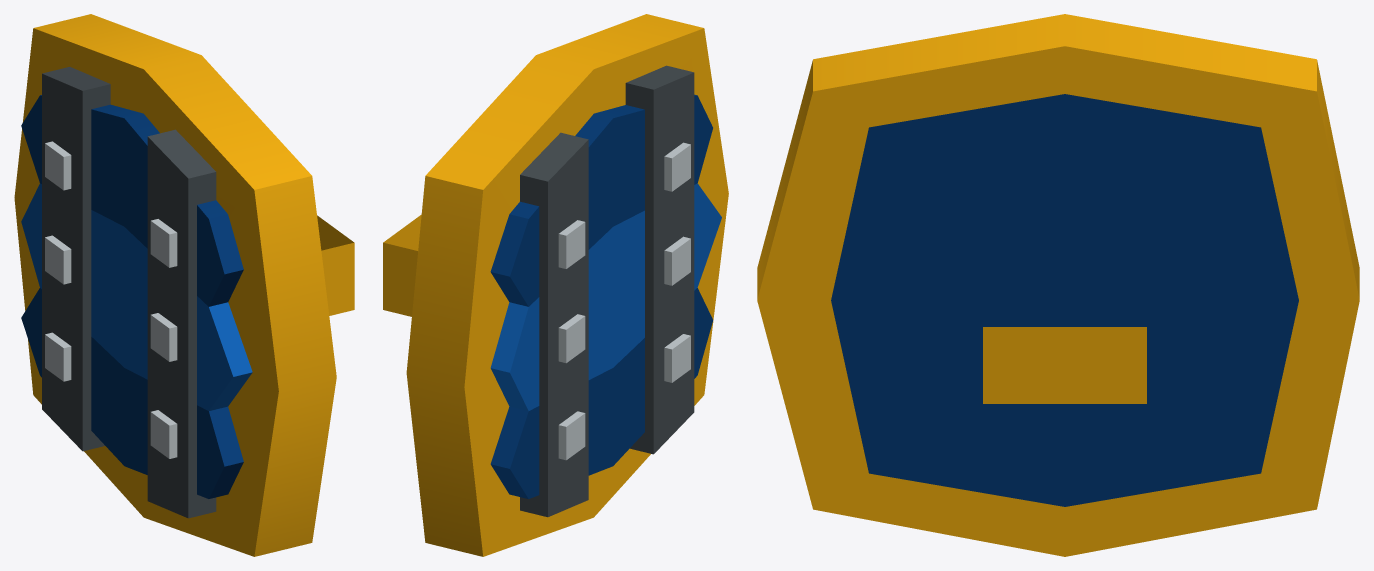
Rendered from Shield 01.FBX.
3 renders of one model, left to right at view 1: azimuth 30°, elevation 25°; view 2: azimuth 150°, elevation 25°; view 3: azimuth 270°, elevation 25°, orthographic. The views are drawn at different scales.
Visible parts, largest first — view 1: Shield 01; view 2: Shield 01; view 3: Shield 01.
Part boxes in pixels (box(x1,y1,x2,y2)): Shield 01: box(14, 14, 354, 556); Shield 01: box(383, 14, 728, 556); Shield 01: box(757, 14, 1359, 556).
Size of the model in its own units: 28.72 by 58.45 by 62.49.
1 material, 1 textured.
